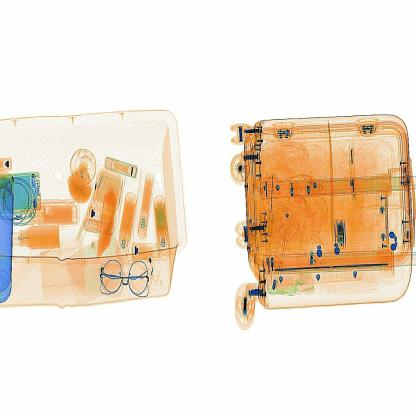pliers: (258, 166, 282, 236)
